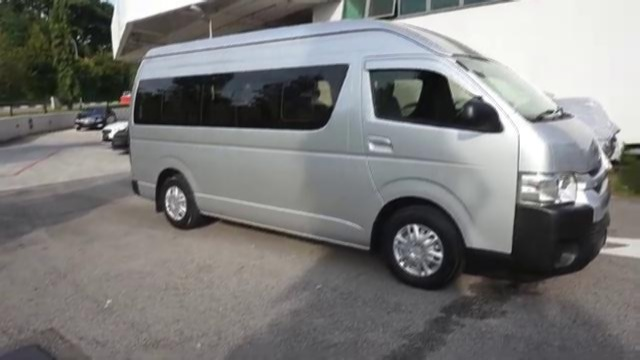van: (131, 21, 626, 287)
